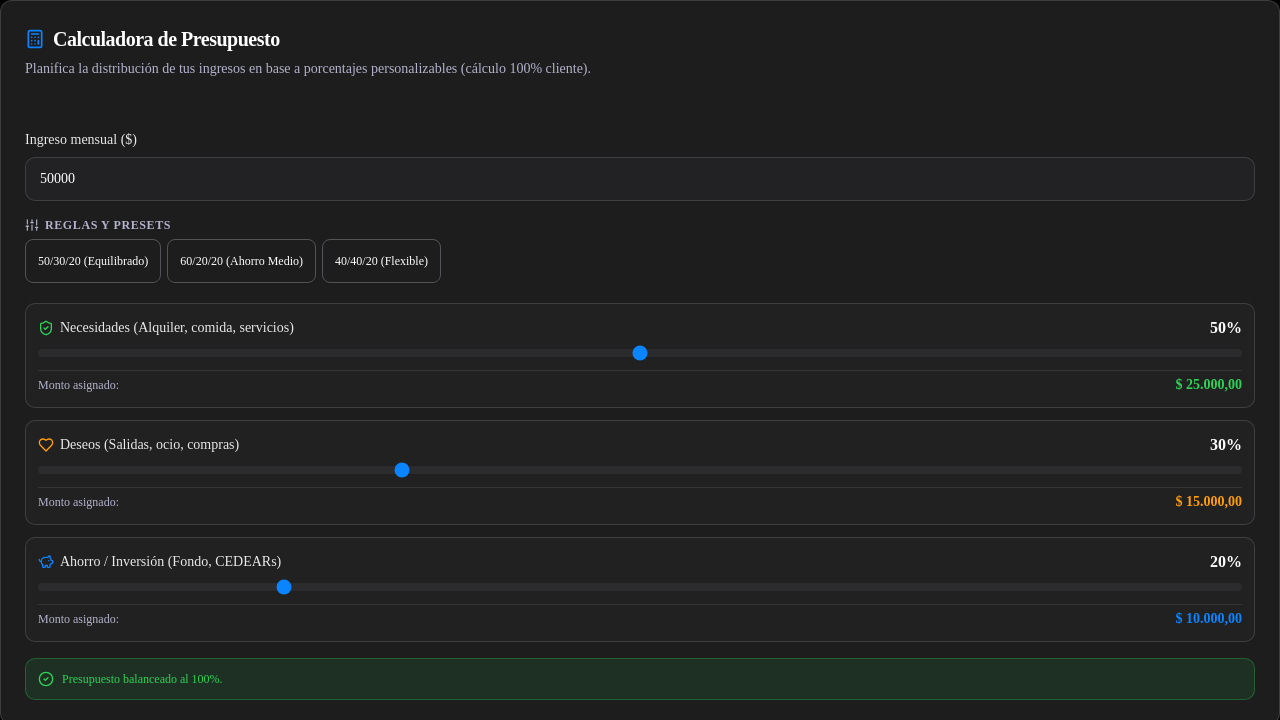
Scenario: BudgetCalculator › displays warning when split is 99% or 101%
Set the slider labelled "Necesidades (Alquiler, comida, servicios)" to "49": (628, 353) top-left (38, 349), bottom-right (1242, 357)
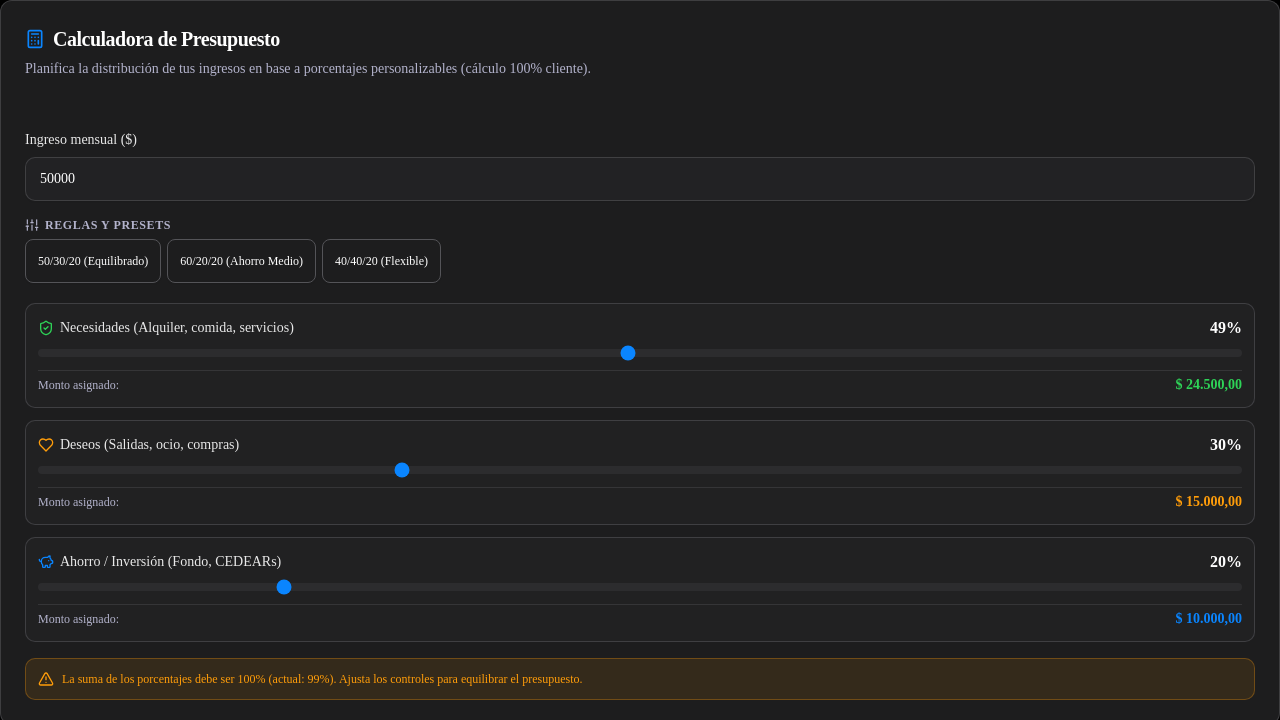
Expected: the message shows "99%", top-left (25, 658), bottom-right (1255, 700)
Set the slider labelled "Necesidades (Alquiler, comida, servicios)" to "51": (652, 353) top-left (38, 349), bottom-right (1242, 357)
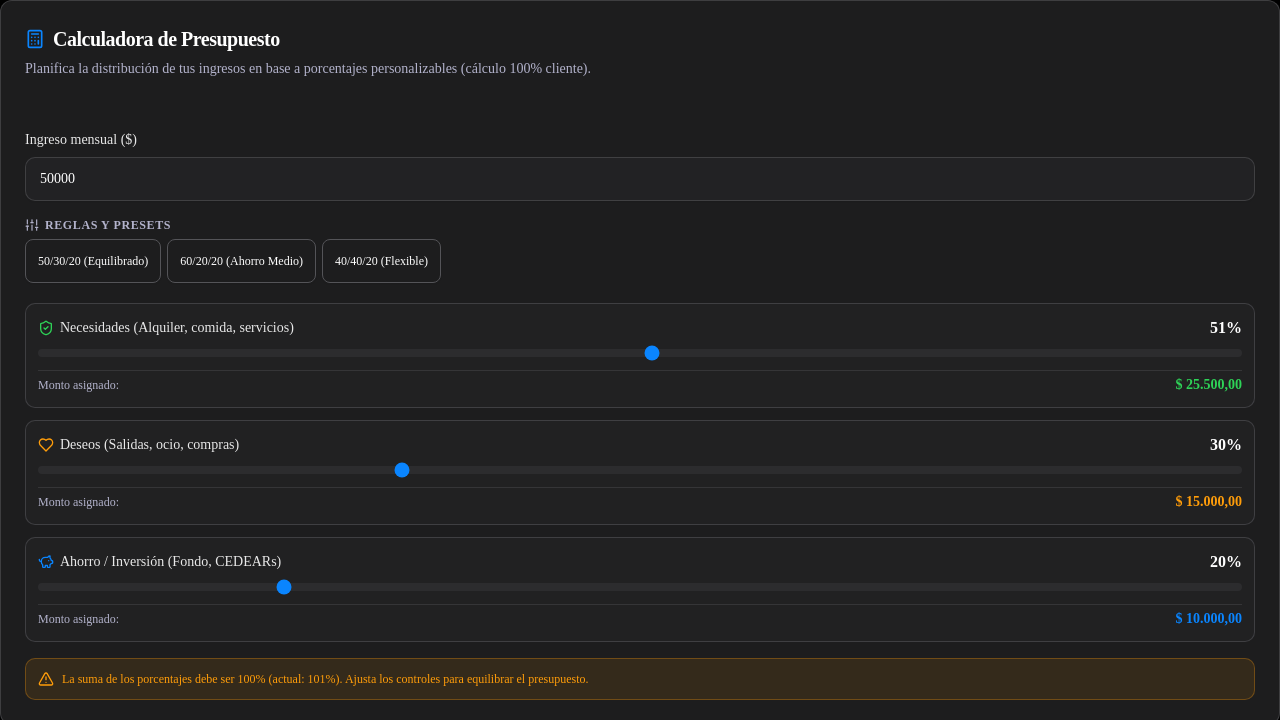
Expected: the message shows "101%", top-left (25, 658), bottom-right (1255, 700)
